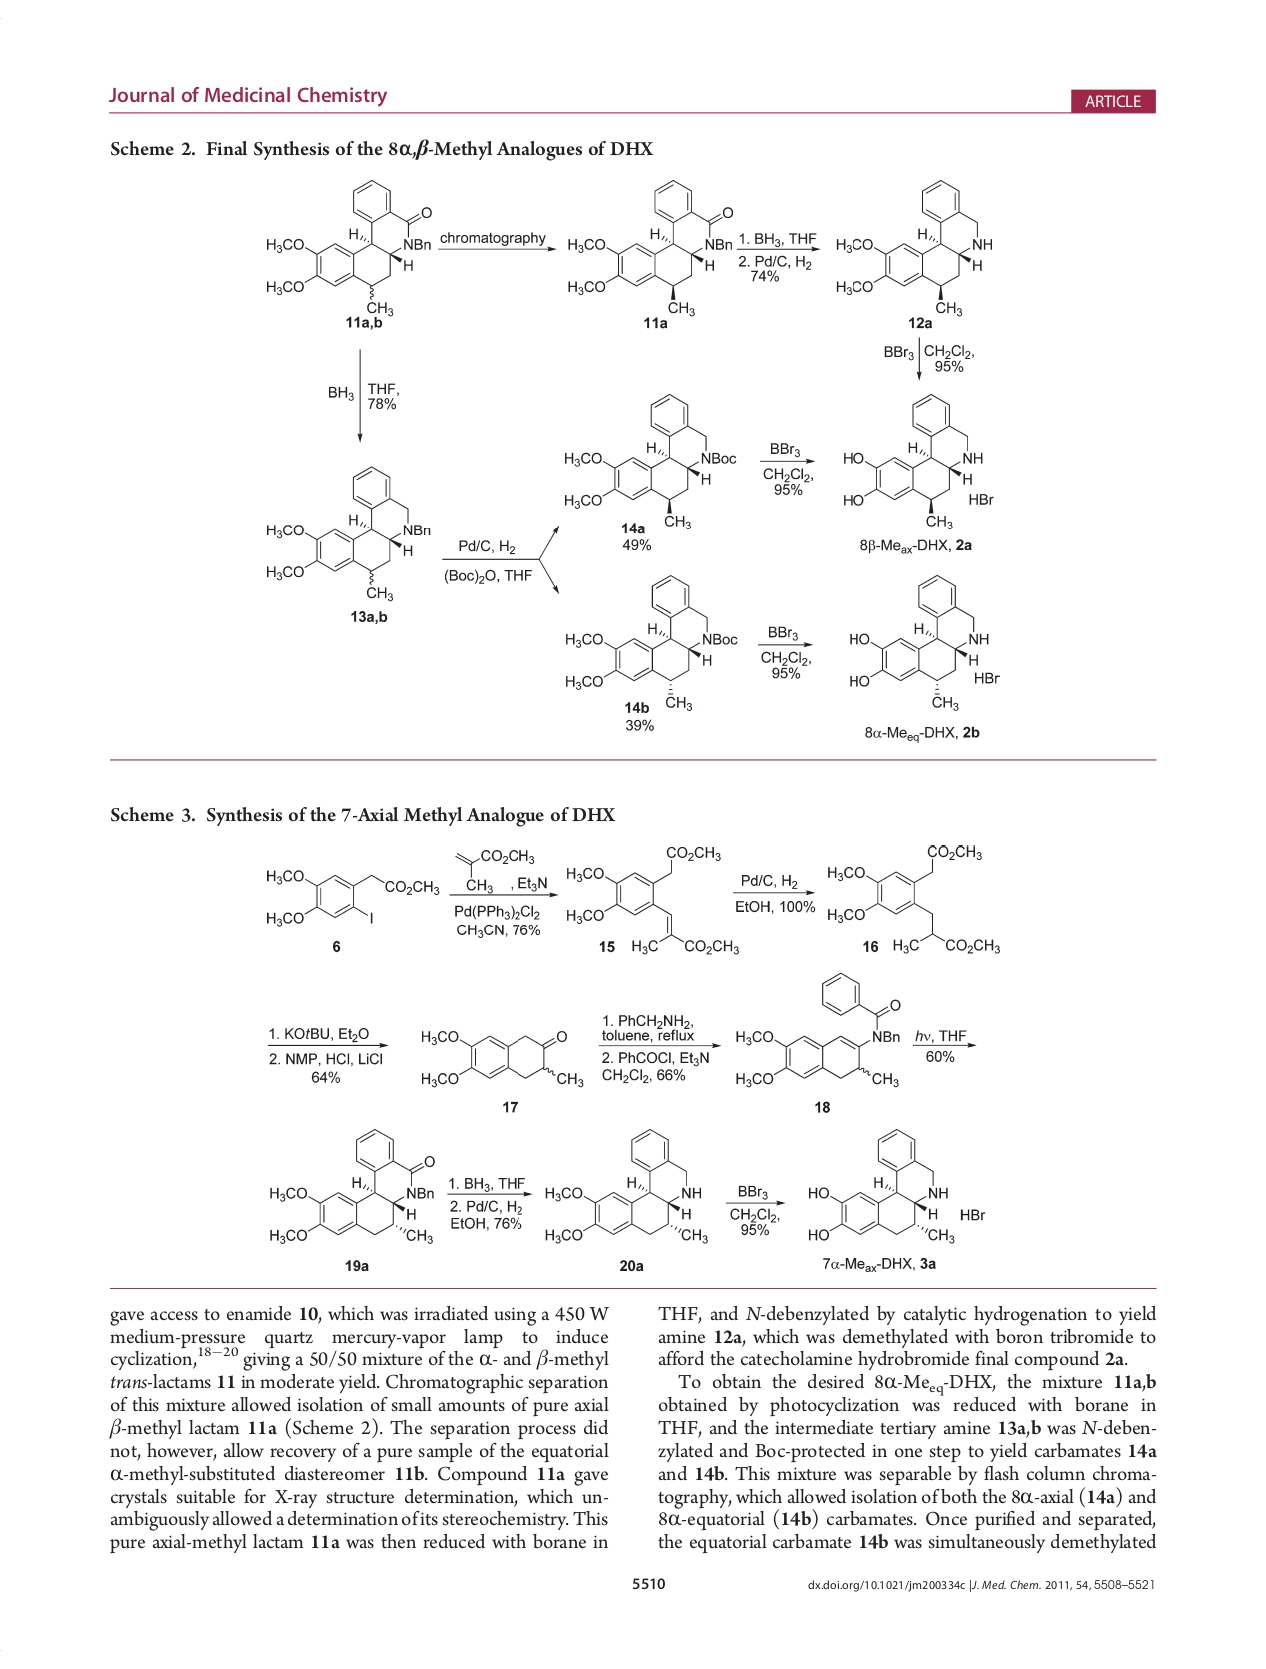exist_molecular: (262, 463, 435, 606), (563, 572, 738, 711), (561, 392, 738, 531), (565, 176, 735, 318), (265, 177, 434, 318), (832, 176, 995, 317), (846, 569, 1003, 711), (840, 391, 995, 531), (731, 969, 906, 1092), (269, 1126, 442, 1246), (543, 1124, 711, 1246), (824, 842, 1001, 958), (563, 843, 739, 958), (806, 1125, 959, 1249), (255, 856, 442, 930), (414, 1023, 585, 1092), (452, 846, 539, 894)
